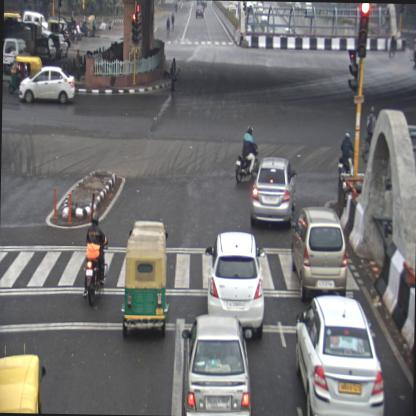car: (294, 292, 386, 415), (180, 314, 252, 416), (204, 230, 266, 342), (290, 208, 348, 301), (249, 157, 296, 228), (18, 64, 76, 104), (3, 38, 24, 66), (36, 35, 56, 62), (51, 34, 68, 58), (196, 4, 203, 18)
motorcycle: (82, 210, 107, 307), (235, 124, 260, 186), (338, 130, 354, 180)
